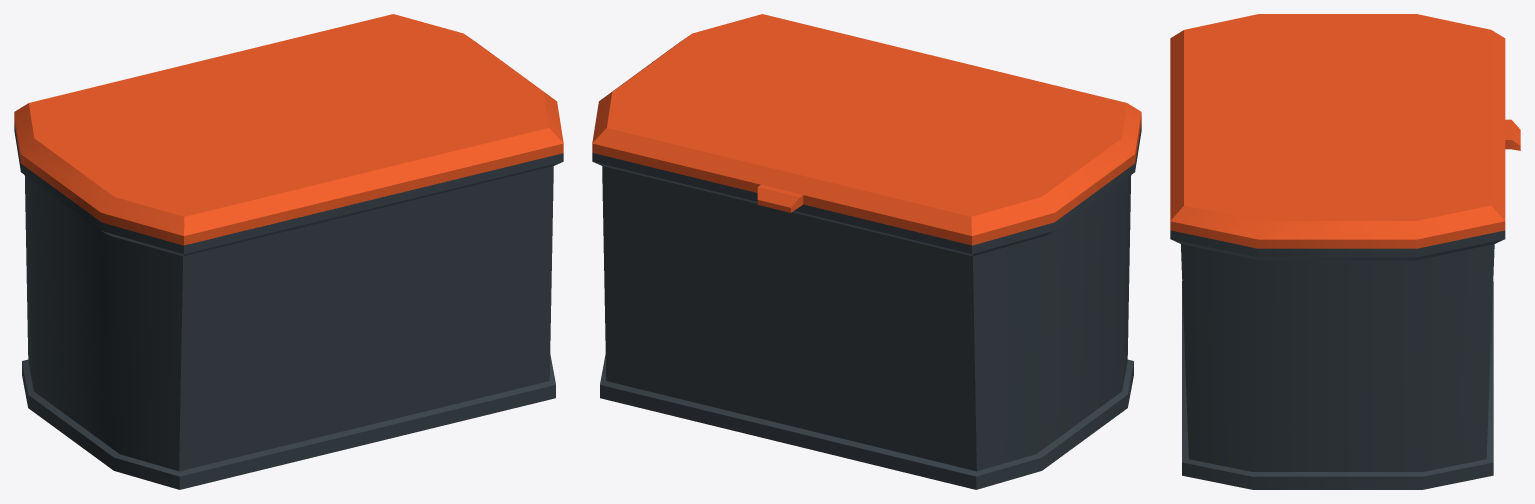
File: CompostGrande_01.fbx
3 renders of one model, left to right at view 1: azimuth 30°, elevation 25°; view 2: azimuth 150°, elevation 25°; view 3: azimuth 270°, elevation 25°, orthographic.
Parts seen in each view (by area): view 1: CompostGrande_01; view 2: CompostGrande_01; view 3: CompostGrande_01.
Part boxes in pixels (x1=…): CompostGrande_01: x1=14, y1=14, x2=563, y2=489; CompostGrande_01: x1=592, y1=14, x2=1141, y2=489; CompostGrande_01: x1=1170, y1=14, x2=1520, y2=489.
Size of the model in its own units: 466 by 264 by 314.
